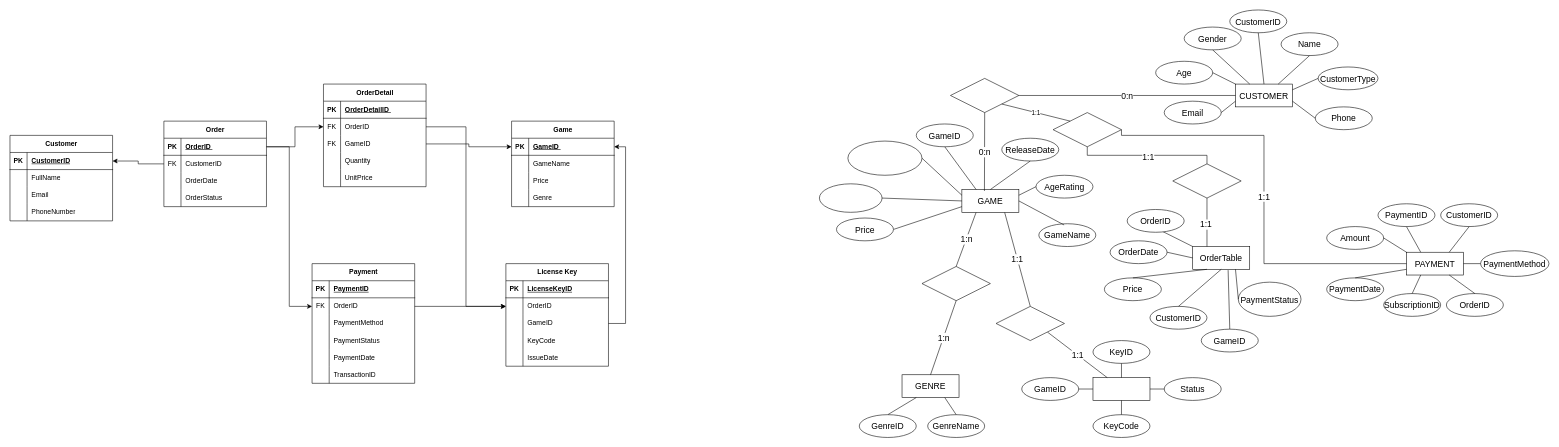
Some shapes in this 1559 by 447 pixel diagram are drawn without their labels. Each missing label, with the box of its shape:
Belong to: (921, 266, 990, 301)
Bound by: (996, 306, 1064, 341)
Choose: (950, 78, 1019, 113)
DeveloperName: (847, 141, 922, 175)
LICENSEKEY: (1092, 377, 1150, 400)
PublisherName: (819, 183, 882, 212)
Purchase: (1053, 112, 1121, 147)
Record: (1172, 163, 1241, 198)
